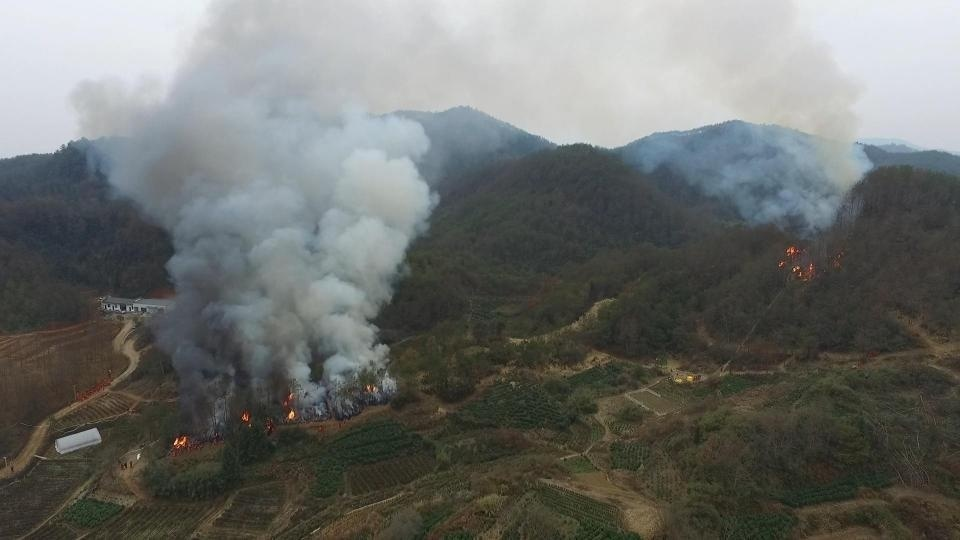fire: (163, 364, 399, 454), (768, 234, 840, 285)
